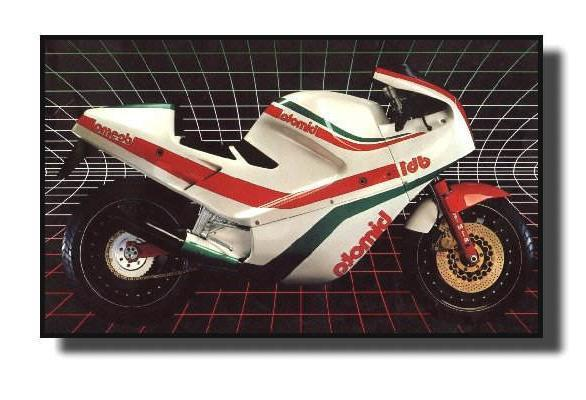motorcycle: (55, 62, 539, 330)
